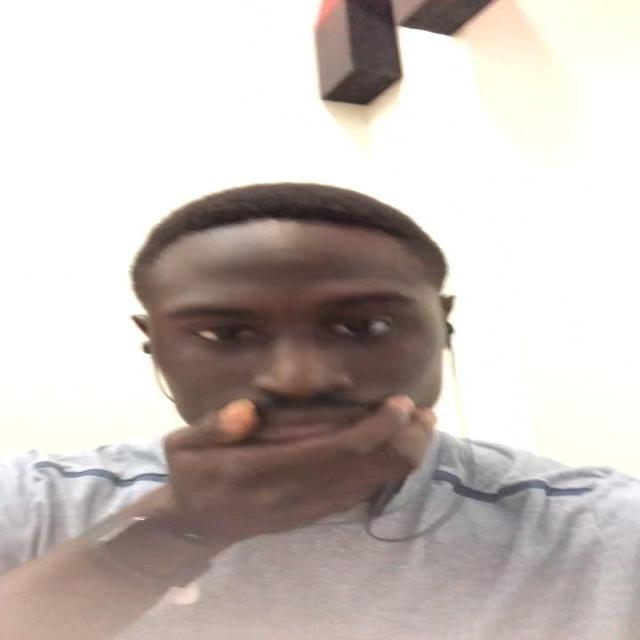face: (148, 246, 447, 496)
